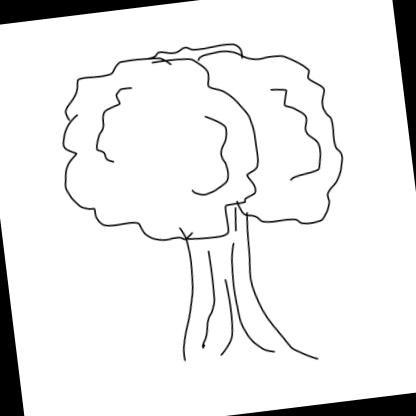crown_dizzy: (49, 24, 355, 254)
trunk_bark: (175, 240, 276, 334)
